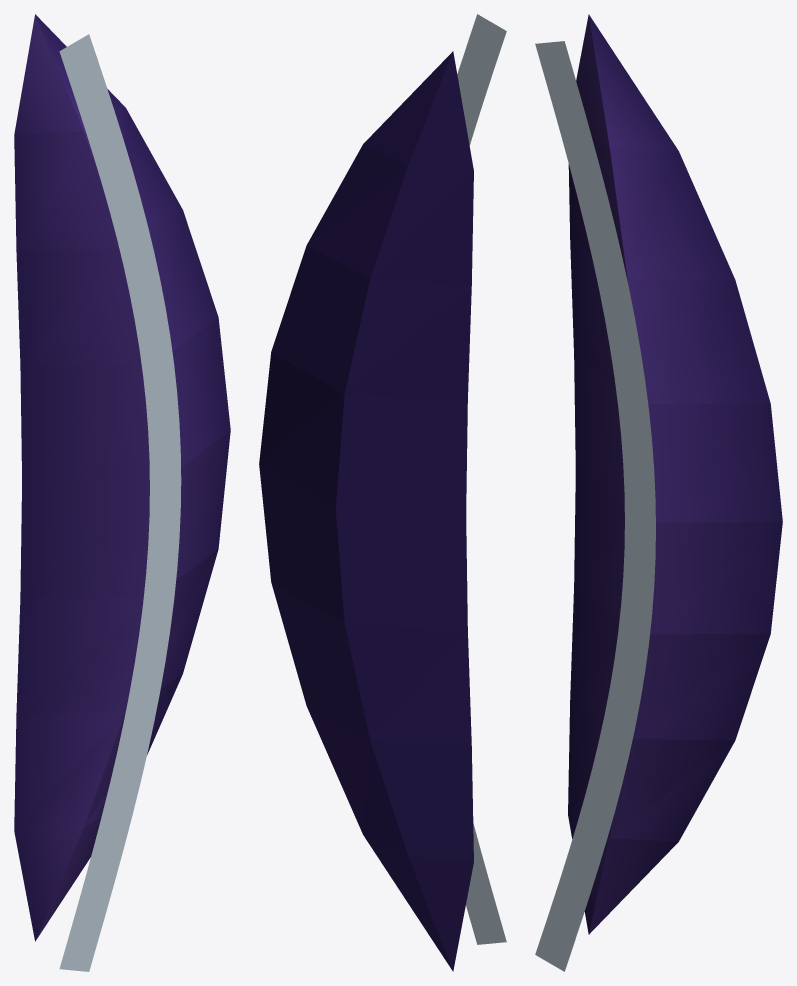
File: Fischl_OzAttack_Overall_OzLongFlightFeather.fbx
3 views of the same model, side by side, from view 1: azimuth 30°, elevation 25°; view 2: azimuth 150°, elevation 25°; view 3: azimuth 330°, elevation 25° (orthographic).
Visible parts, largest first — view 1: PART_OzLongFlight_FacetedFeather, PART_OzLongFlight_VioletFeatherSpine; view 2: PART_OzLongFlight_FacetedFeather, PART_OzLongFlight_VioletFeatherSpine; view 3: PART_OzLongFlight_FacetedFeather, PART_OzLongFlight_VioletFeatherSpine.
Boxes of the visible parts, left/top/right/bottom form: PART_OzLongFlight_FacetedFeather: left=14, top=14, right=230, bottom=941; PART_OzLongFlight_VioletFeatherSpine: left=59, top=34, right=181, bottom=971; PART_OzLongFlight_FacetedFeather: left=259, top=51, right=473, bottom=971; PART_OzLongFlight_VioletFeatherSpine: left=457, top=14, right=506, bottom=944; PART_OzLongFlight_FacetedFeather: left=568, top=14, right=782, bottom=934; PART_OzLongFlight_VioletFeatherSpine: left=535, top=41, right=655, bottom=971.
Size of the model in its own units: 8.3 by 34.37 by 4.4.
